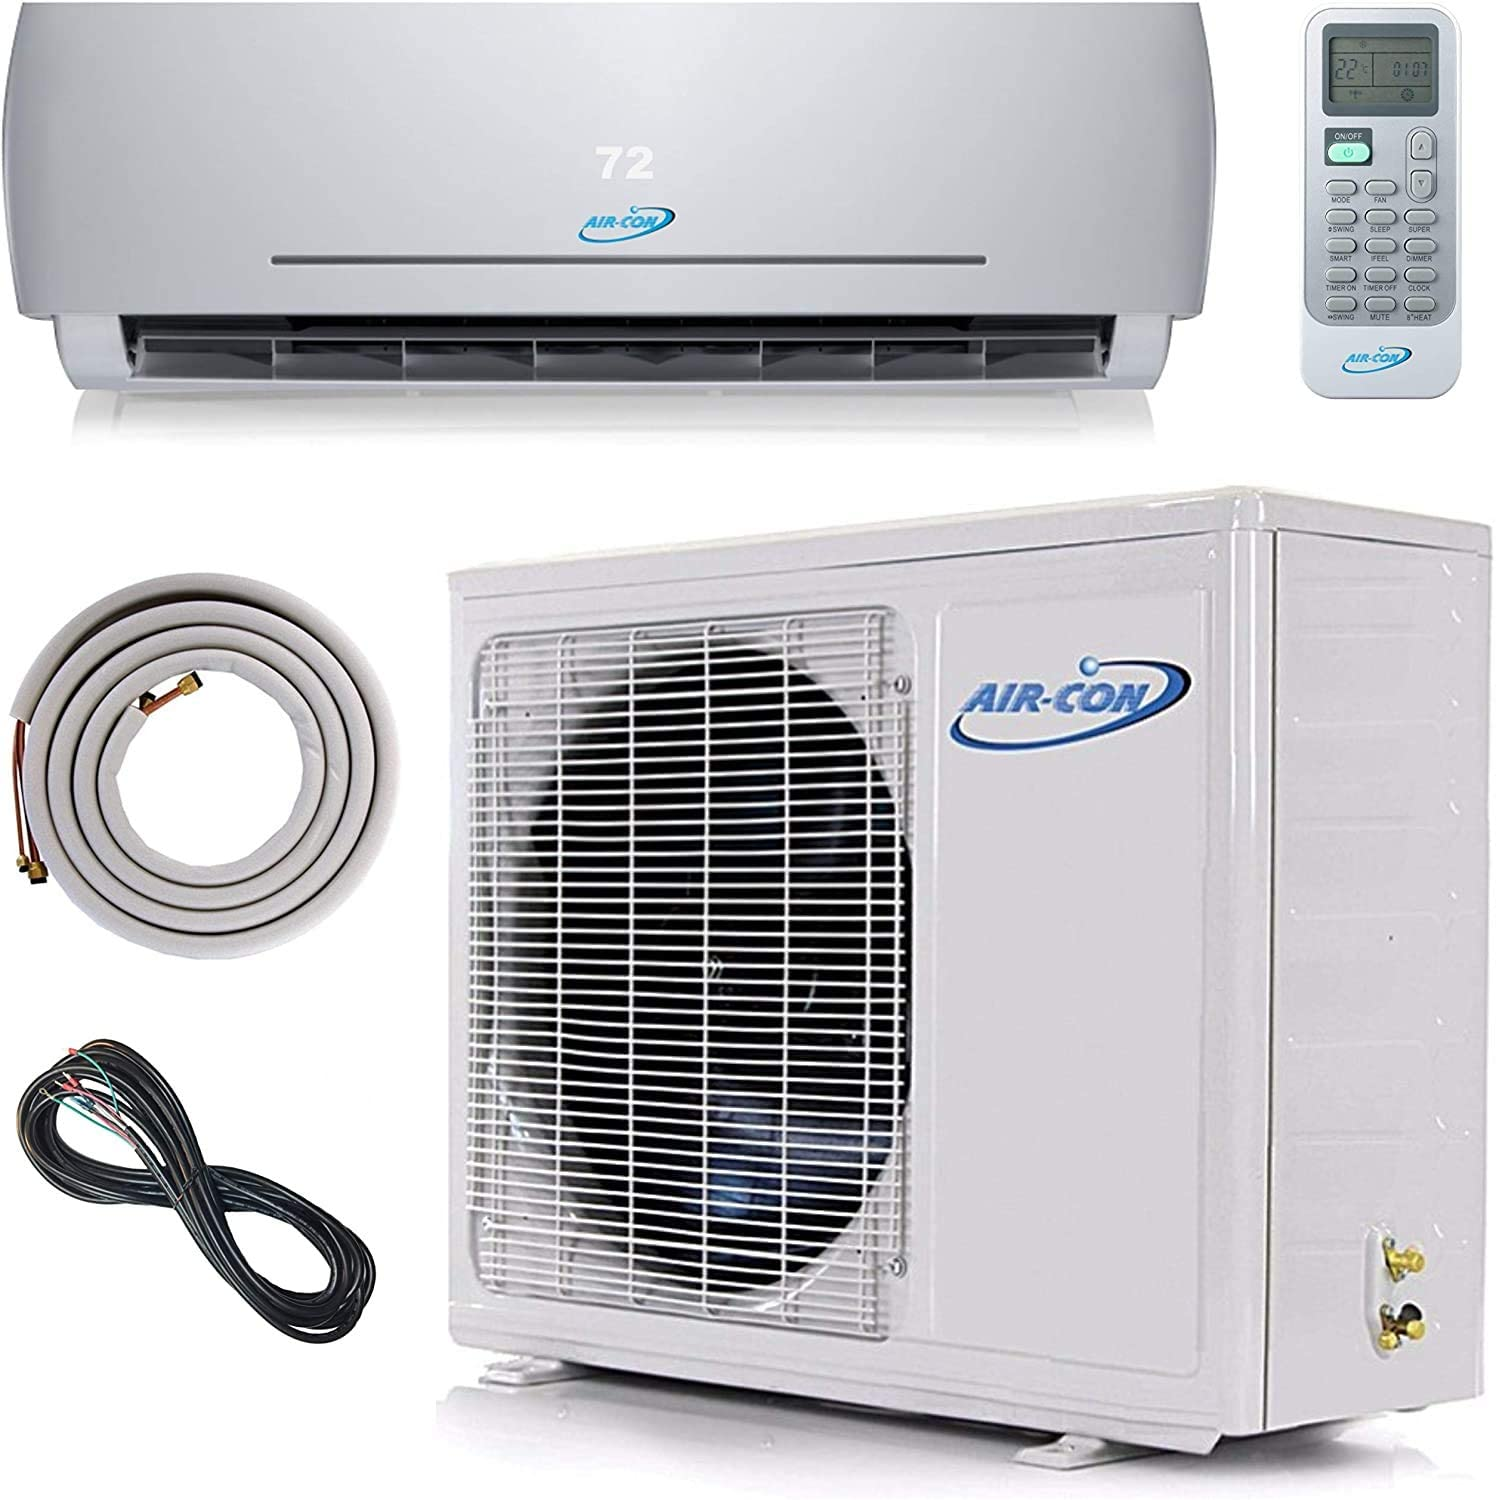ac: (1, 4, 1227, 436)
